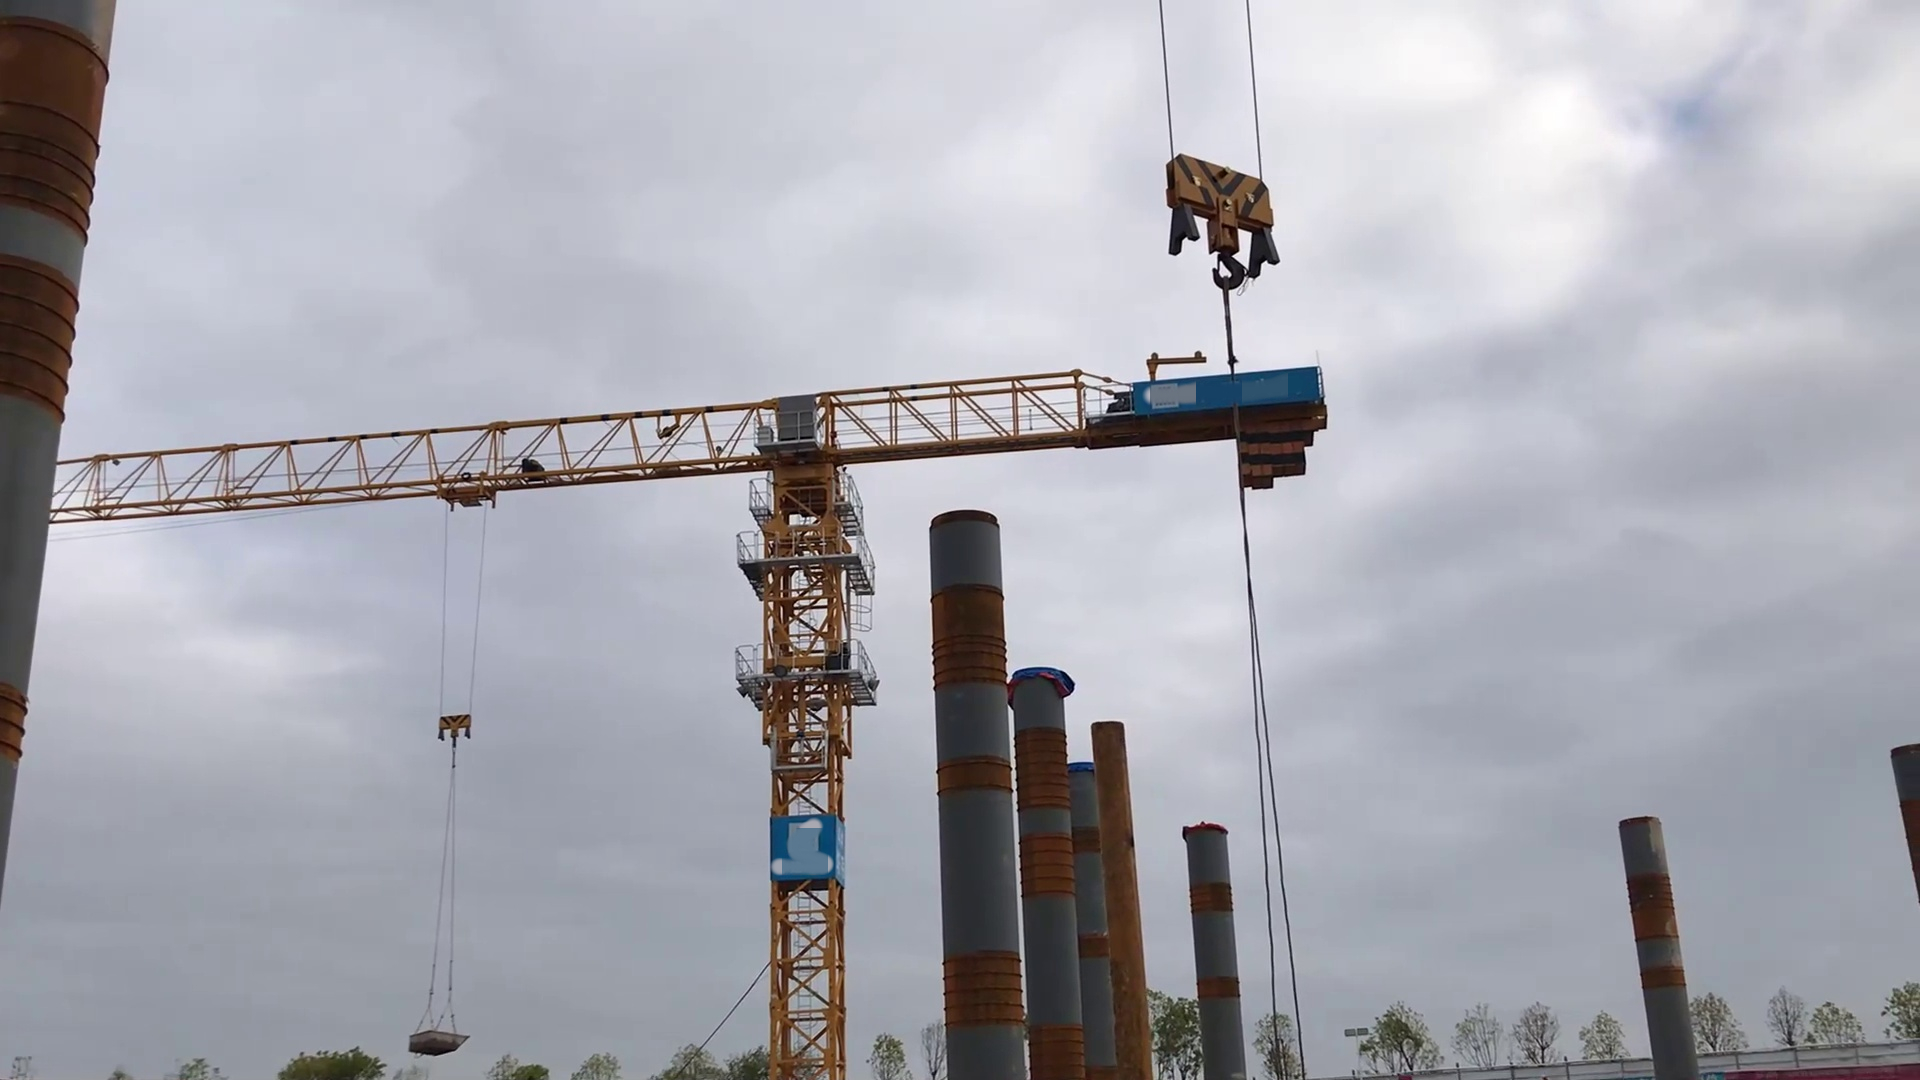hook: (1156, 145, 1286, 302), (429, 705, 480, 753)
